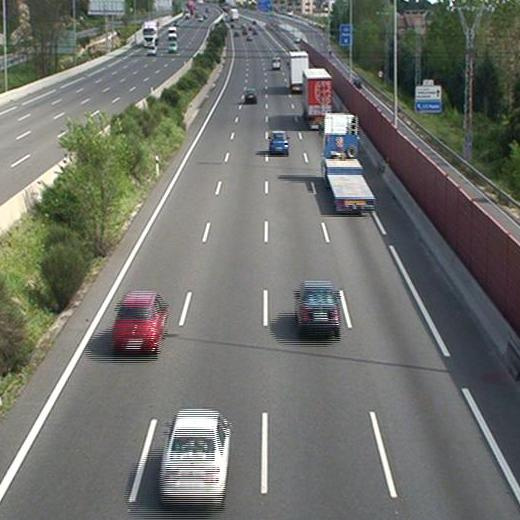car: (161, 408, 228, 507), (114, 292, 168, 353), (294, 281, 341, 333), (268, 131, 292, 155), (244, 87, 257, 103)
truck: (321, 114, 379, 210), (302, 69, 330, 125), (287, 51, 310, 91)
van: (270, 57, 281, 69)
